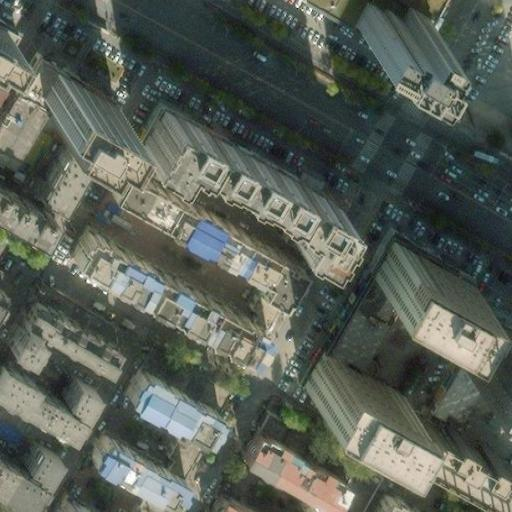building: (104, 152, 302, 296), (65, 228, 259, 363), (128, 91, 315, 226), (372, 209, 476, 296), (300, 337, 404, 423), (235, 429, 345, 508), (405, 400, 507, 484), (122, 360, 221, 441), (88, 426, 183, 502), (7, 296, 114, 361), (28, 131, 90, 207), (461, 291, 512, 369), (39, 70, 109, 126), (24, 436, 63, 477), (67, 364, 110, 400), (370, 489, 422, 512), (124, 486, 164, 512), (46, 491, 94, 512), (207, 492, 256, 512)
